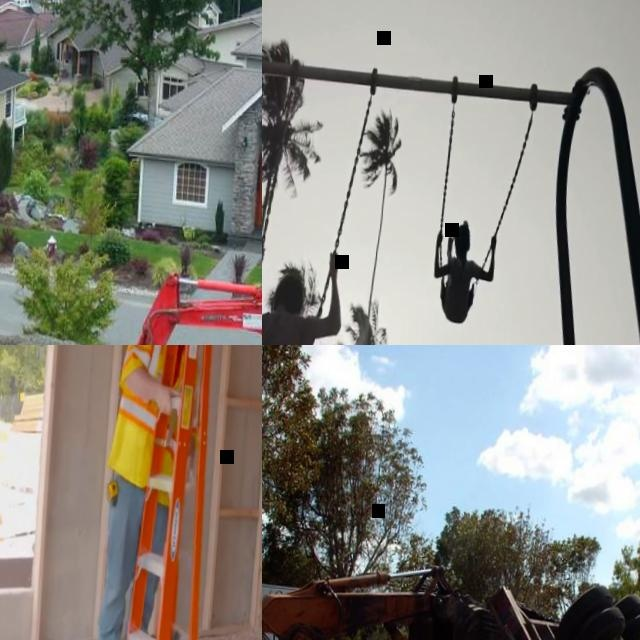NO-Hardhat: (276, 266, 305, 294), (454, 220, 474, 244)
NO-Safety Vest: (444, 256, 475, 321), (262, 308, 296, 345)
Person: (89, 345, 209, 640), (262, 235, 346, 345), (429, 217, 497, 323)
Safety Vest: (104, 345, 206, 509)
machinery: (262, 560, 640, 640)
